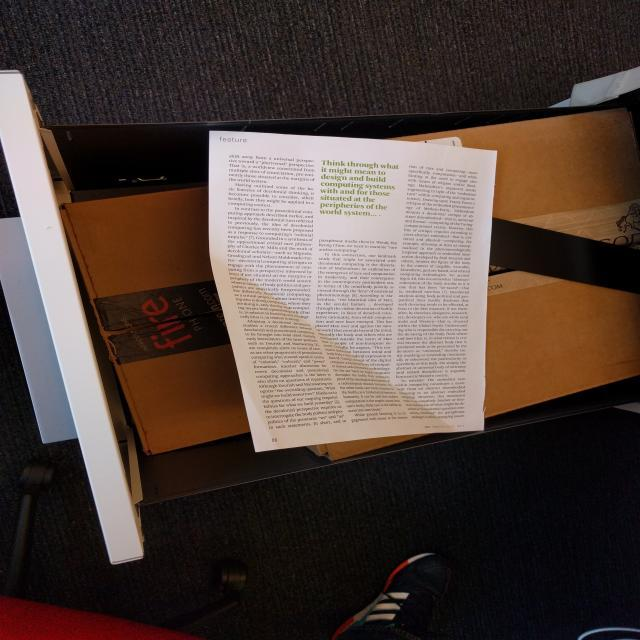document: (208, 131, 497, 450)
